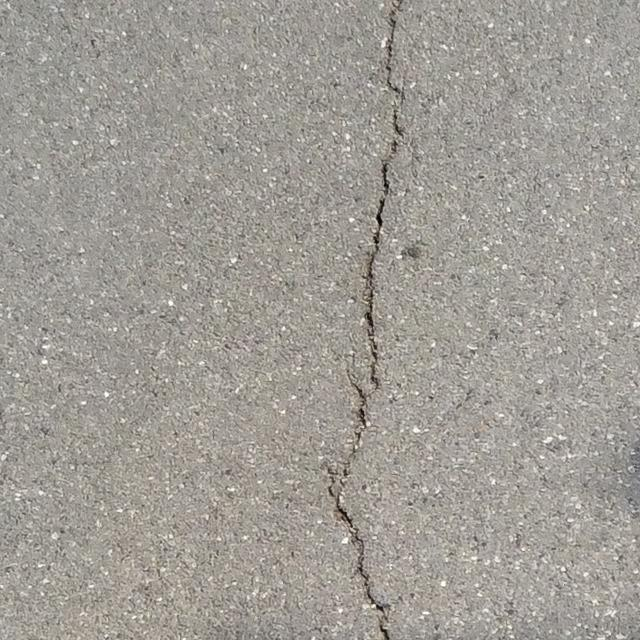LongitudinalCrack: (329, 1, 409, 640)
